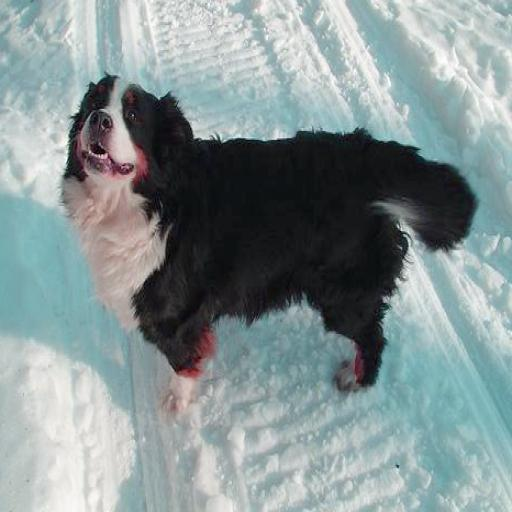dog_face: (66, 76, 171, 189)
